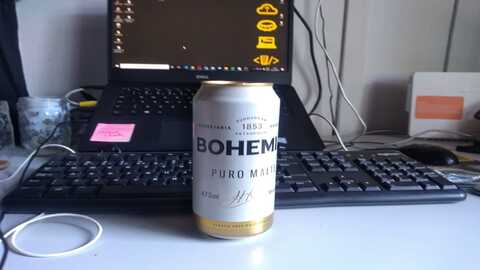bohemia: (190, 79, 280, 242)
